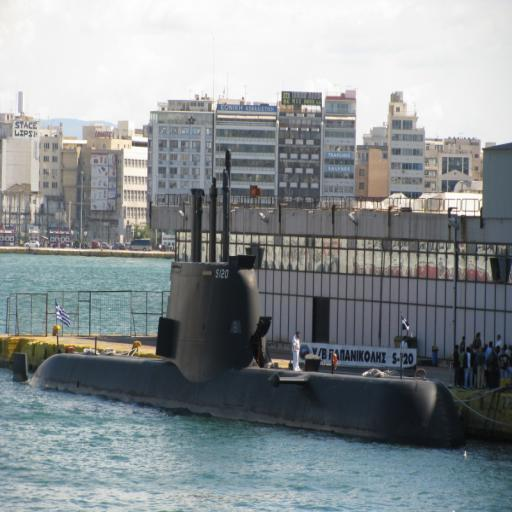submarine: (27, 151, 469, 450)
